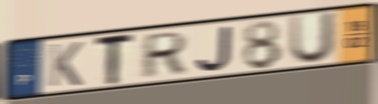8: (241, 19, 285, 70)
J: (194, 24, 233, 74)
K: (47, 40, 85, 89)
R: (139, 30, 190, 81)
T: (94, 31, 137, 88)
U: (287, 10, 339, 66)
